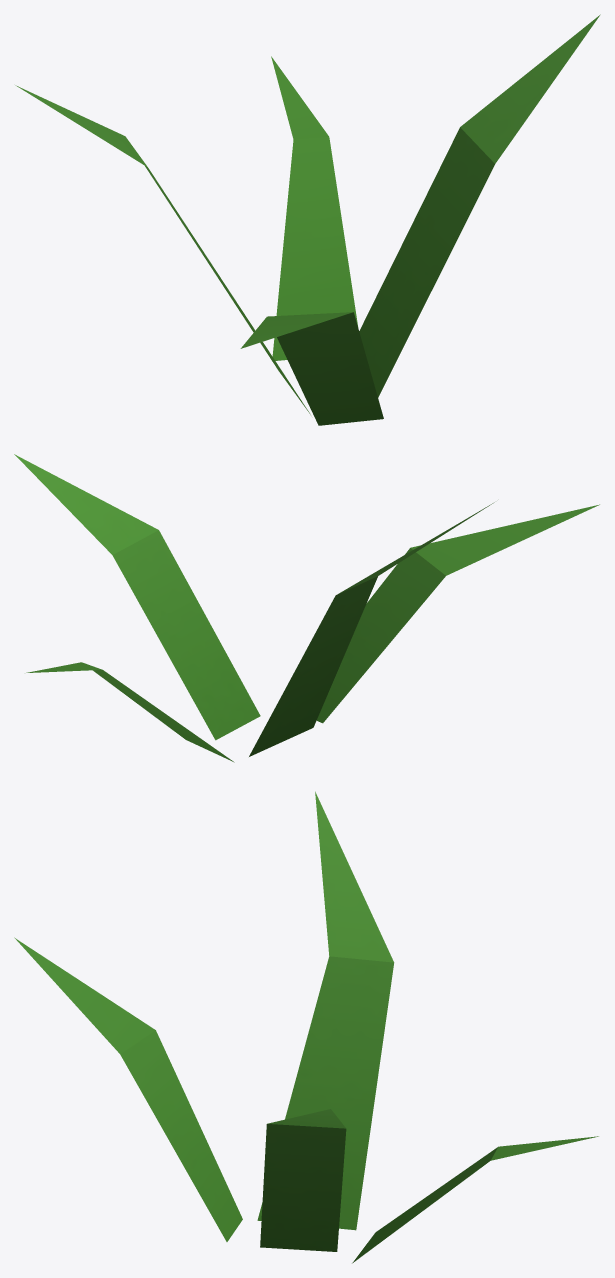
File: grass_patch_01_singlesided.fbx
The picture shows the model from 3 angles, top to bottom: view 1: azimuth 30°, elevation 25°; view 2: azimuth 150°, elevation 25°; view 3: azimuth 270°, elevation 25°; orthographic projection. The views are drawn at different scales.
Visible parts, largest first — view 1: grass_patch_01_singlesided; view 2: grass_patch_01_singlesided; view 3: grass_patch_01_singlesided.
Boxes of the visible parts, x1,y1,x2,y2 form: grass_patch_01_singlesided: (15, 14, 600, 425); grass_patch_01_singlesided: (14, 454, 599, 762); grass_patch_01_singlesided: (14, 791, 598, 1263).
Bounding box in the file's own units: 1 × 0.6 × 1.
Materials: 1 (1 with a texture image).
